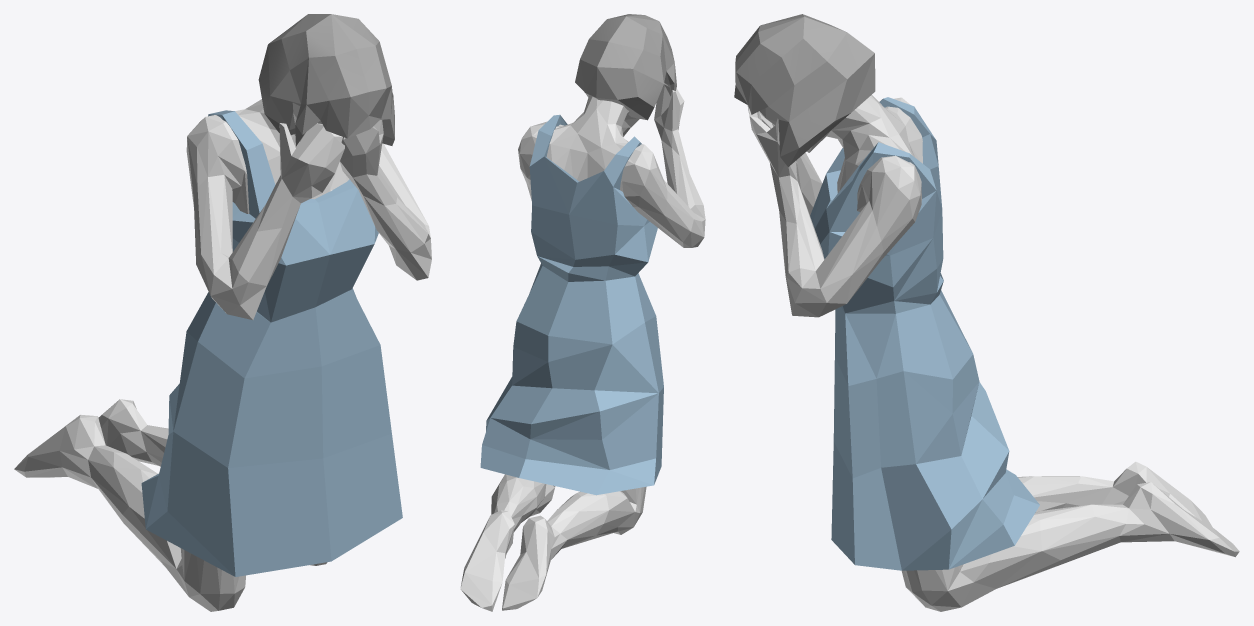
Rendered from female_kneel.fbx.
The picture shows the model from 3 angles, left to right: view 1: azimuth 30°, elevation 25°; view 2: azimuth 150°, elevation 25°; view 3: azimuth 270°, elevation 25°; orthographic projection. The views are drawn at different scales.
Visible parts, largest first — view 1: polySurface46; view 2: polySurface46; view 3: polySurface46.
Boxes of the visible parts, x1=… form: polySurface46: x1=14, y1=14, x2=431, y2=611; polySurface46: x1=460, y1=14, x2=705, y2=611; polySurface46: x1=734, y1=14, x2=1239, y2=611.
Size of the model in its own units: 44.02 by 118 by 94.09.
